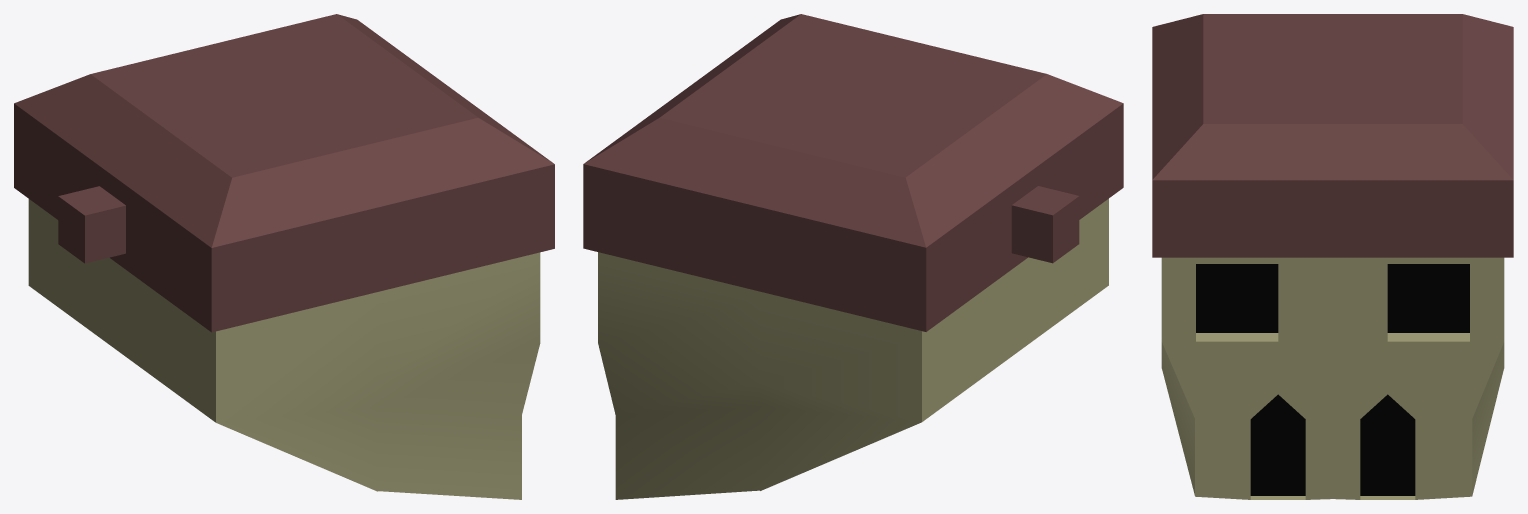
The model's file is Enemy.fbx.
3 views of the same model, side by side, from view 1: azimuth 30°, elevation 25°; view 2: azimuth 150°, elevation 25°; view 3: azimuth 270°, elevation 25° (orthographic). The views are drawn at different scales.
Visible parts, largest first — view 1: pCube2, pCube1, pCube3; view 2: pCube2, pCube1, pCube3; view 3: pCube2, pCube1.
Part boxes in pixels (left/top/right/bottom): pCube2: left=14, top=14, right=554, bottom=332; pCube1: left=28, top=199, right=540, bottom=499; pCube3: left=58, top=186, right=125, bottom=263; pCube2: left=583, top=14, right=1123, bottom=331; pCube1: left=598, top=198, right=1108, bottom=499; pCube3: left=1011, top=186, right=1079, bottom=263; pCube2: left=1152, top=14, right=1513, bottom=257; pCube1: left=1161, top=257, right=1504, bottom=499.
Size of the model in its own units: 2.48 by 2.41 by 2.21.
